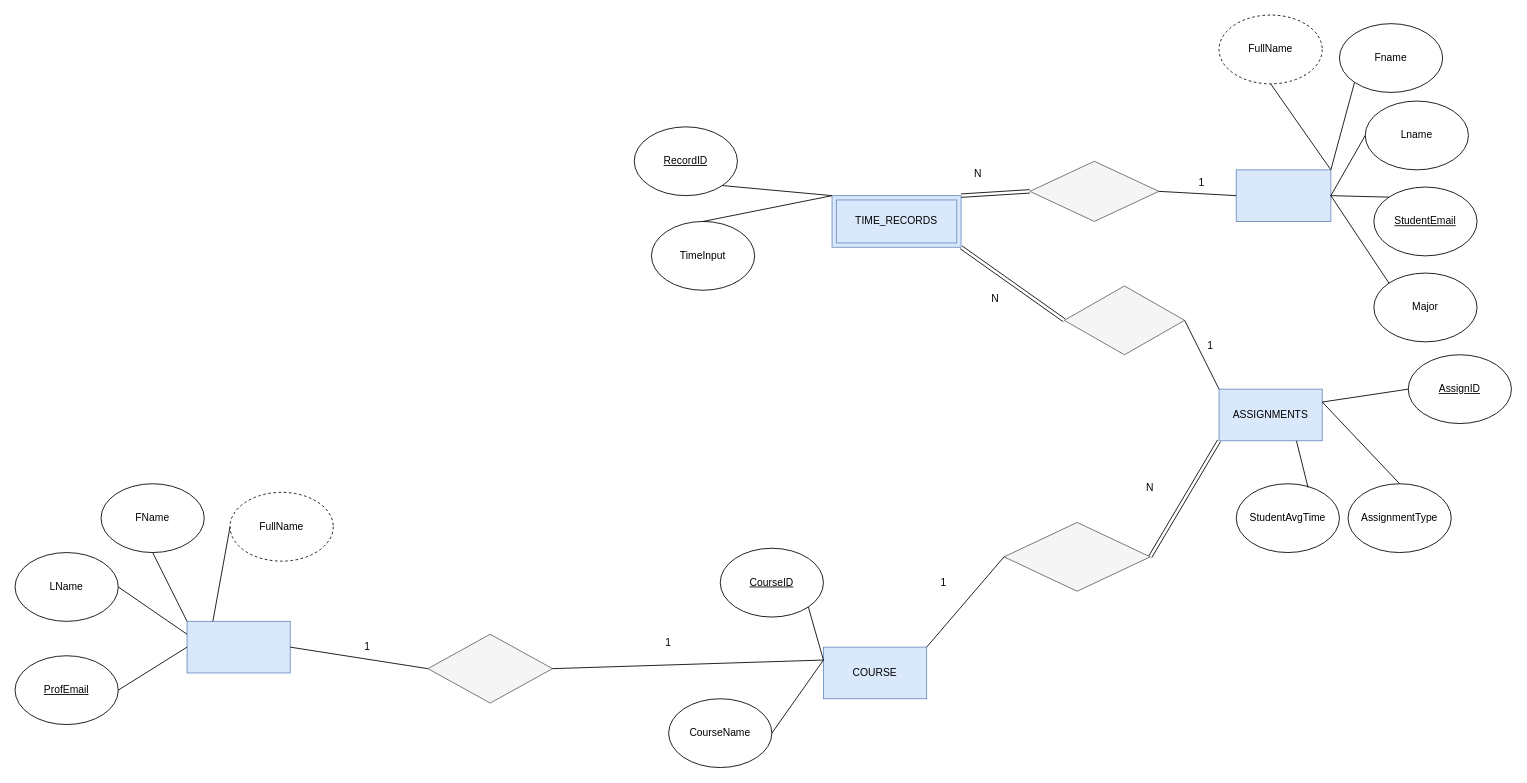
Some shapes in this 1527 by 783 pixel diagram are drawn without their labels. The centre of each missing label's shape, as x and y in pixels:
"CONTAINS" belongs at (x=1076, y=556).
"Inputs" belongs at (x=1094, y=190).
"Logs" belongs at (x=1124, y=320).
"PROFESSOR" belongs at (x=238, y=646).
"STUDENT" belongs at (x=1283, y=195).
"TEACHES" belongs at (x=490, y=668).
